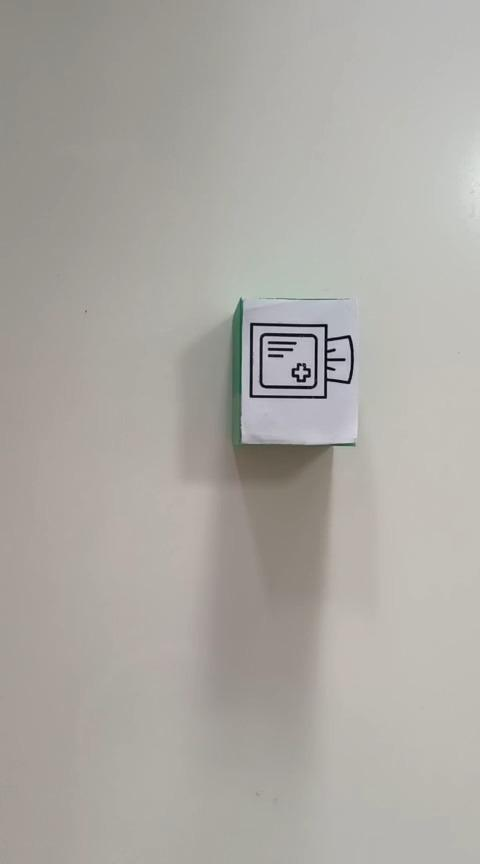Gauze: (230, 295, 359, 447)
